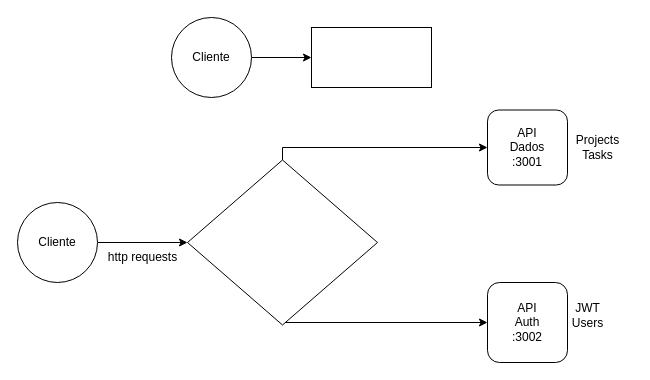
The diagram is 650 pixels wide and 380 high, and some of its shapes have lost their labels. Here are the shapes that lost their labels. From the top down, the centre of each, then its label:
point (371, 57): Monolito API de dados Autenticação
point (282, 242): API Gateway Proxy :3000 Rotas /api/v1/auth/* /api/v1/projects /api/v1/tasks/*
